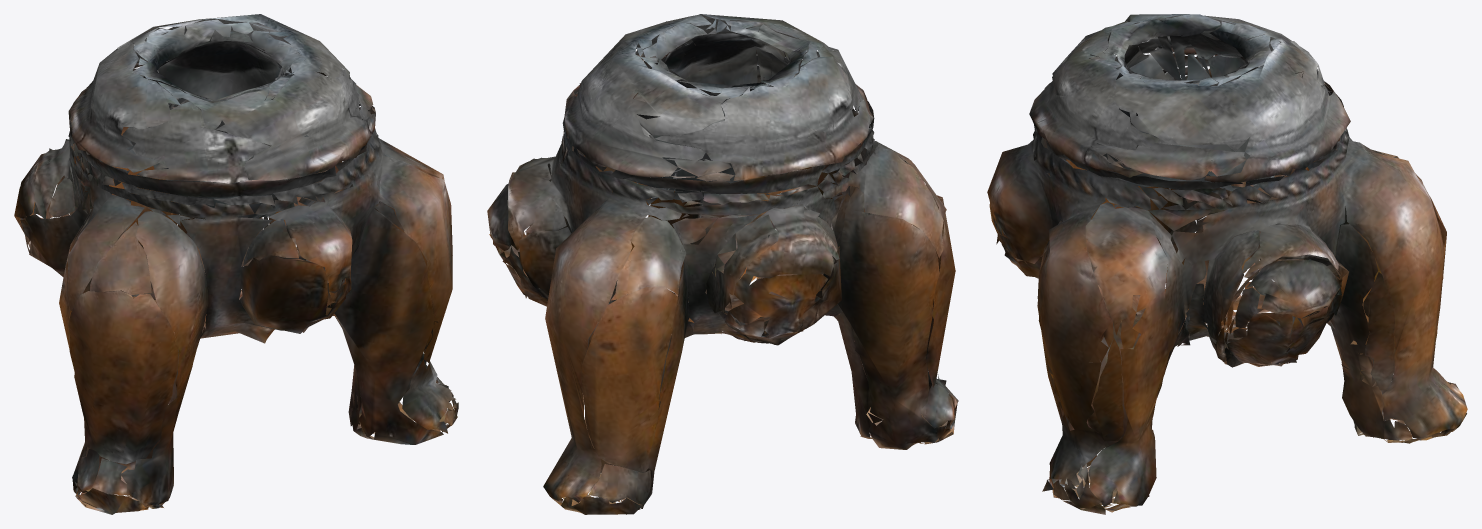
Rendered from inkwell.glb.
3 renders of one model, left to right at view 1: azimuth 30°, elevation 25°; view 2: azimuth 150°, elevation 25°; view 3: azimuth 270°, elevation 25°, orthographic.
Visible parts, largest first — view 1: Object_2; view 2: Object_2; view 3: Object_2, Object_3.
Boxes of the visible parts, x1=… form: Object_2: x1=14, y1=14, x2=458, y2=514; Object_2: x1=487, y1=14, x2=958, y2=514; Object_2: x1=987, y1=14, x2=1467, y2=514; Object_3: x1=1042, y1=72, x2=1324, y2=497.
Size of the model in its own units: 2.17 by 2.11 by 2.37.
1 material, 1 textured.
